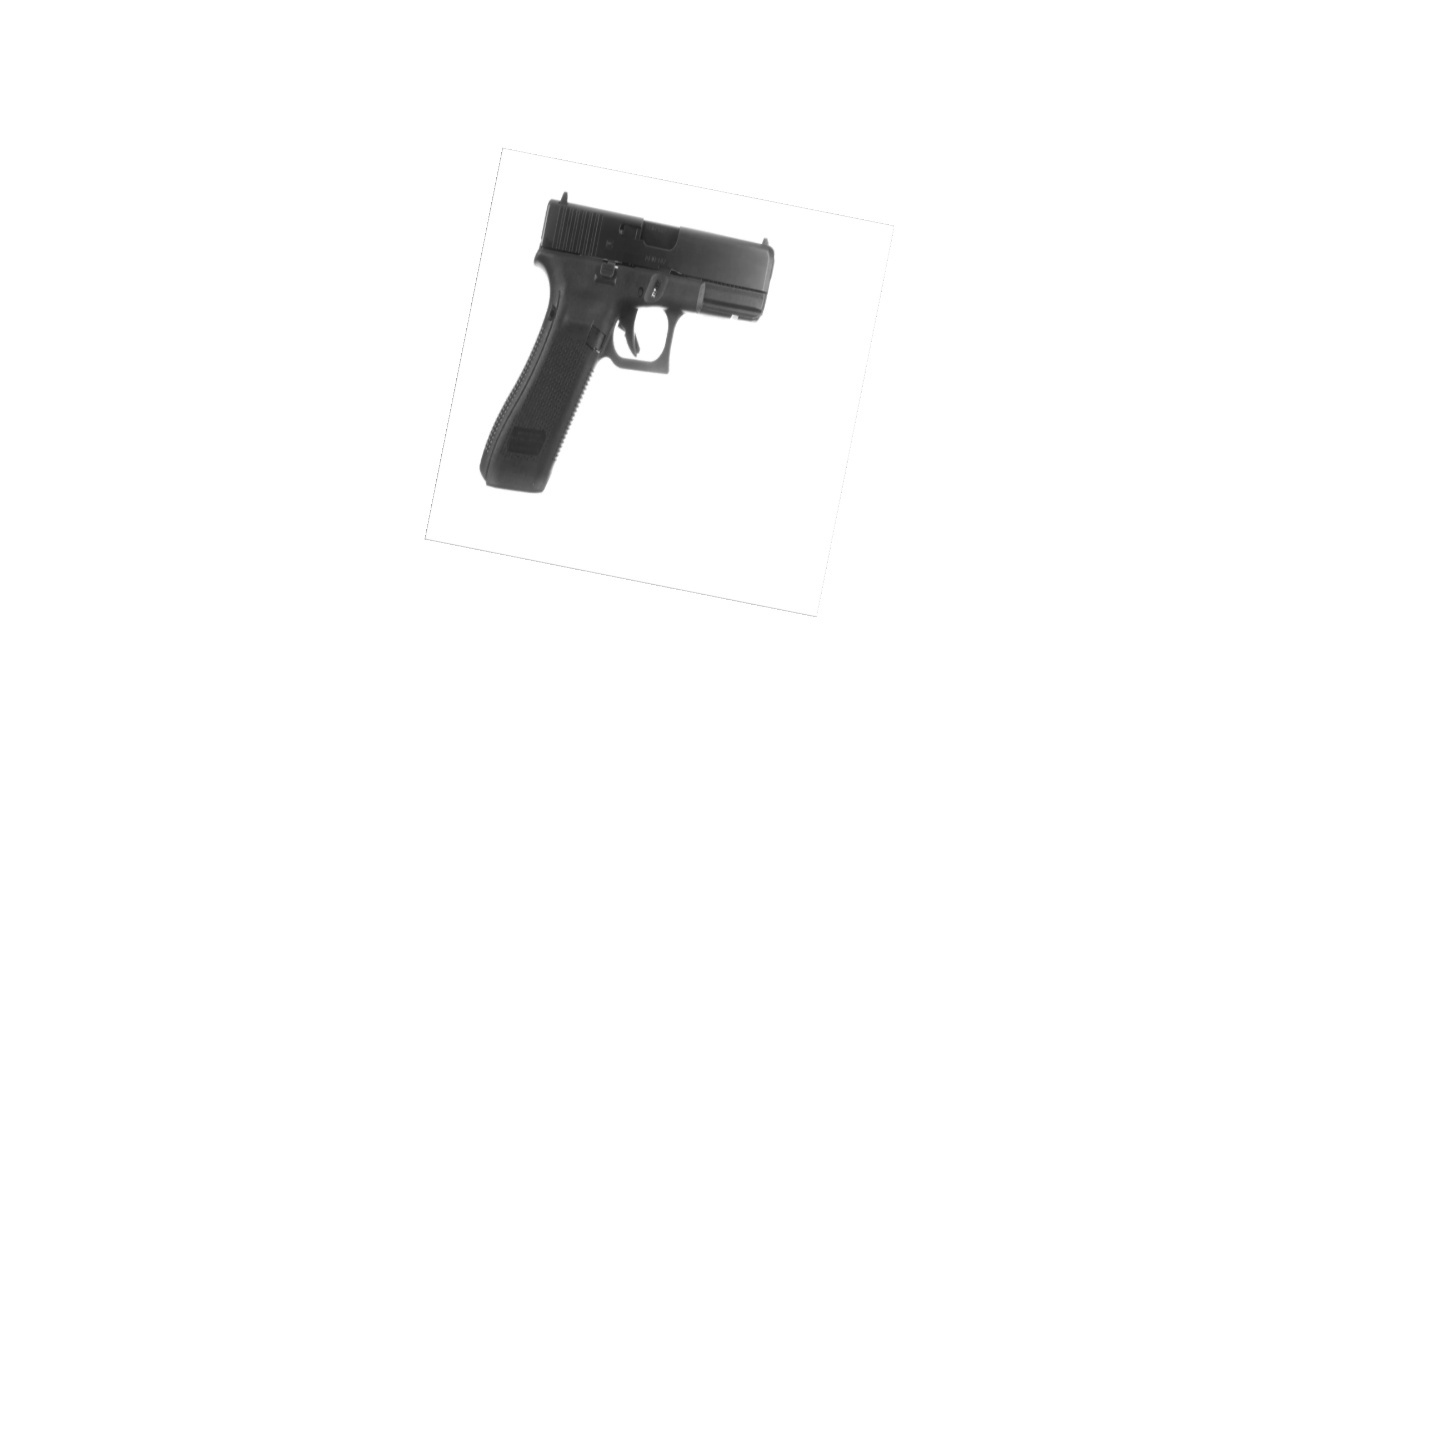gun: (479, 191, 776, 495)
